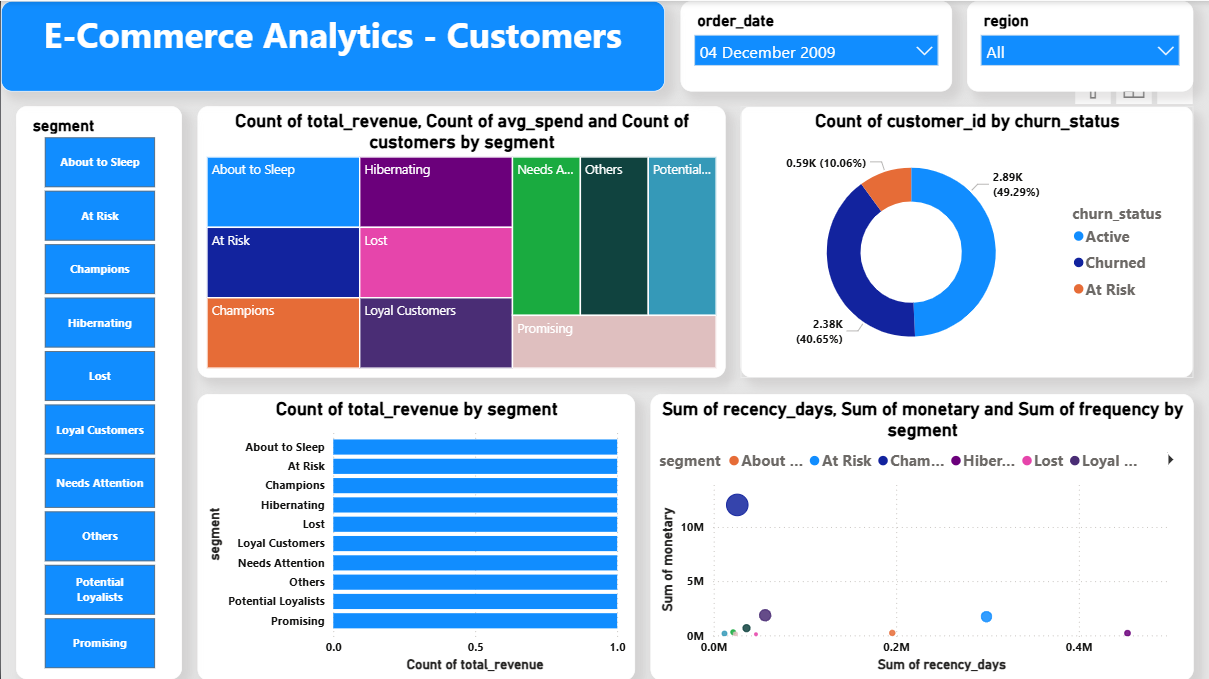

The dashboard page shown, as its layout file describes it:
{"tool":"powerbi","page":{"name":"Customers","canvas":[1280,720],"ordinal":1},"visuals":[{"type":"treemap","fields":{"Group":["rfm_summary.segment"],"Values":["CountNonNull(rfm_summary.total_revenue)"]},"box":[208,112,560,288],"z":0},{"type":"donutChart","fields":{"Category":["churn_risk.churn_status"],"Y":["CountNonNull(churn_risk.customer_id)"]},"box":[784,112,480,288],"z":1000},{"type":"clusteredBarChart","fields":{"Y":["CountNonNull(rfm_summary.total_revenue)"],"Category":["rfm_summary.segment"]},"box":[208,416,464,304],"z":2000},{"type":"scatterChart","fields":{"X":["Sum(rfm_segments.recency_days)"],"Y":["Sum(rfm_segments.monetary)"],"Size":["Sum(rfm_segments.frequency)"],"Series":["rfm_segments.segment"]},"box":[688,416,576,304],"z":3000},{"type":"slicer","fields":{"Values":["orders.order_date"]},"box":[720,0,288,96],"z":4000},{"type":"slicer","fields":{"Values":["customers.region"]},"box":[1024,0,240,96],"z":5000},{"type":"slicer","fields":{"Values":["rfm_segments.segment"]},"box":[16,112,176,608],"z":6000},{"type":"textbox","box":[0,0,704,96],"z":6001}]}

Visuals, with their boxes in screenshot pixels (x1, y1, x2, y2), scaled from the page's 1280x720 canvas onto the 1209x679 screenshot:
treemap - rfm_summary.segment x CountNonNull(rfm_summary.total_revenue): 196, 106, 725, 377
donutChart - churn_risk.churn_status x CountNonNull(churn_risk.customer_id): 741, 106, 1194, 377
clusteredBarChart - CountNonNull(rfm_summary.total_revenue) x rfm_summary.segment: 196, 392, 635, 678
scatterChart - Sum(rfm_segments.recency_days) x Sum(rfm_segments.monetary): 650, 392, 1194, 678
slicer - orders.order_date: 680, 0, 952, 91
slicer - customers.region: 967, 0, 1194, 91
slicer - rfm_segments.segment: 15, 106, 181, 678
textbox: 0, 0, 665, 91
